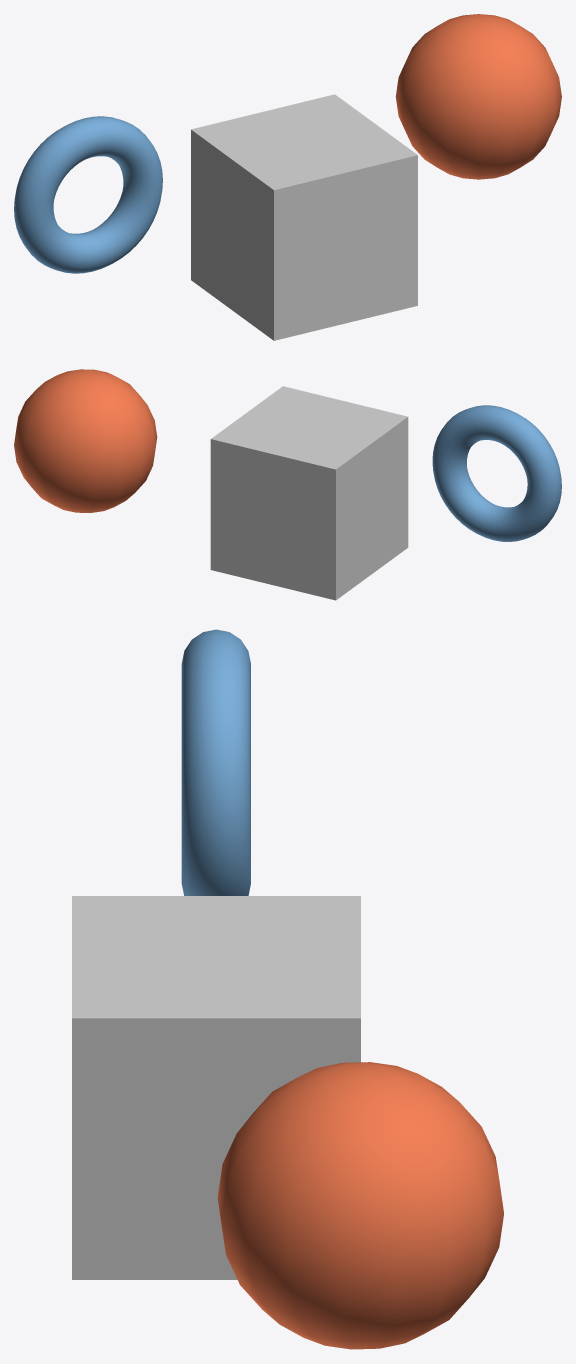
The model's file is scene-editor-materials.glb.
3 renders of one model, top to bottom at view 1: azimuth 30°, elevation 25°; view 2: azimuth 150°, elevation 25°; view 3: azimuth 270°, elevation 25°, orthographic. The views are drawn at different scales.
Size of the model in its own units: 4 by 1.5 by 1.5.
